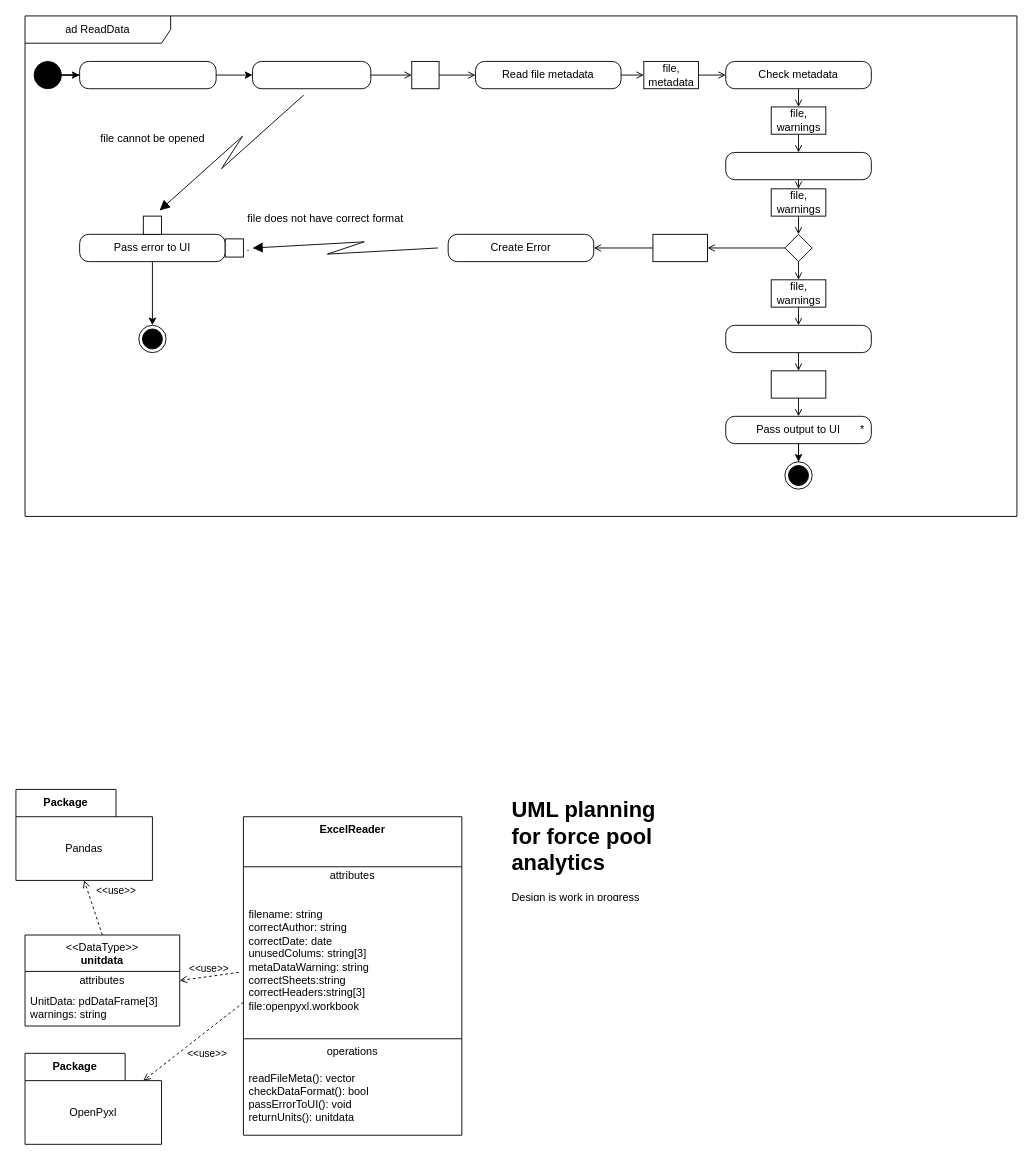
The diagram is 1033 pixels wide and 1160 high, and some of its shapes have lost their labels. Here are the shapes that lost their labels. From the top down, the centre of each, then its label:
the point at 147,75: Receive File URI
the point at 311,75: Open File
the point at 425,75: file
the point at 798,166: Ceck data format
the point at 680,247: warnings
the point at 798,338: Read unit data
the point at 798,384: data, warnings
